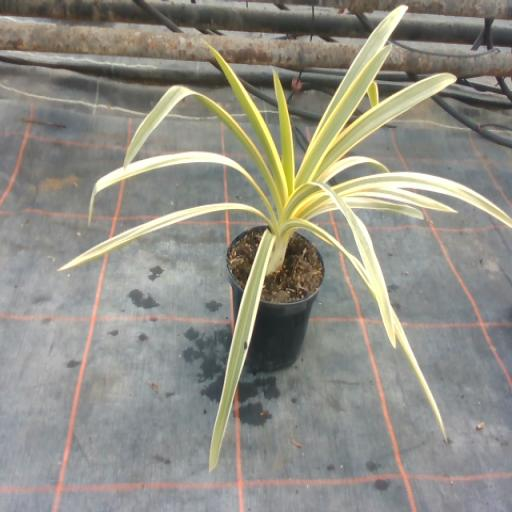Agapanthus-praecox: (89, 85, 277, 223), (280, 182, 394, 346), (209, 231, 276, 469), (59, 205, 268, 270), (321, 74, 455, 172), (297, 47, 390, 181), (209, 45, 287, 202), (89, 151, 257, 223), (314, 7, 405, 139), (332, 173, 511, 226), (391, 308, 446, 439), (285, 221, 376, 299), (350, 188, 455, 212), (274, 71, 294, 195), (345, 197, 423, 218), (318, 157, 389, 179), (293, 190, 331, 219), (306, 204, 337, 218), (368, 82, 378, 106), (439, 207, 455, 212)
